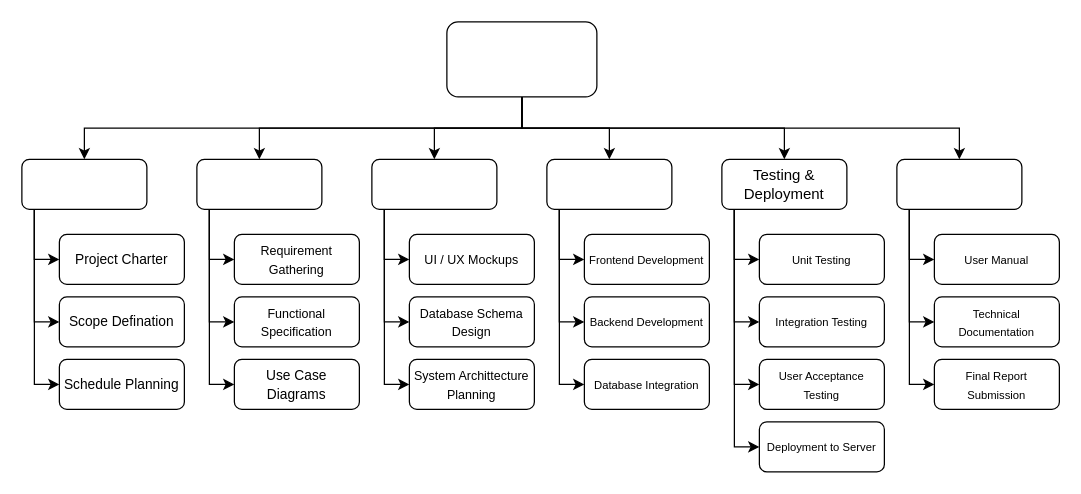
Some shapes in this 1081 by 494 pixel diagram are drawn without their labels. Each missing label, with the box of its shape:
Analysis: (196, 158, 322, 209)
Design: (371, 158, 497, 209)
Development: (546, 158, 672, 209)
Documentation & Handover: (896, 158, 1022, 209)
Meeting Room Booking System: (446, 21, 597, 97)
Project Management: (21, 158, 147, 209)
